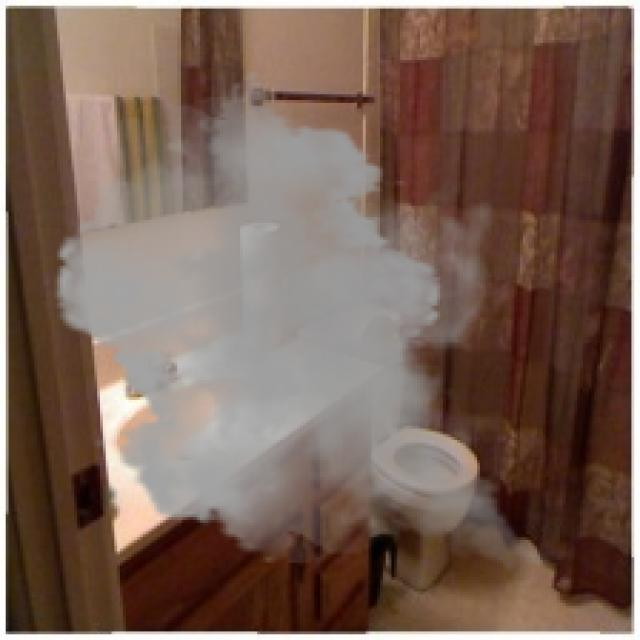smoke: (40, 68, 580, 583)
